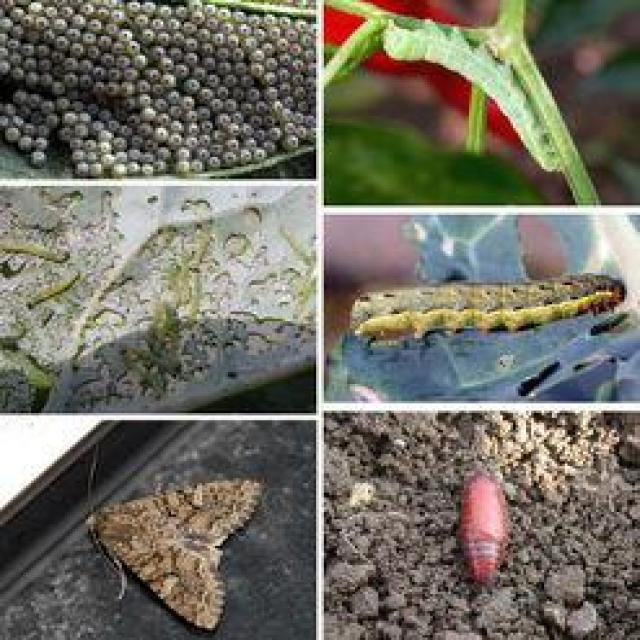armyworm: (1, 1, 309, 163), (371, 11, 588, 191), (83, 479, 255, 625), (358, 267, 640, 346), (12, 208, 71, 396), (451, 463, 517, 596), (11, 230, 72, 272)
